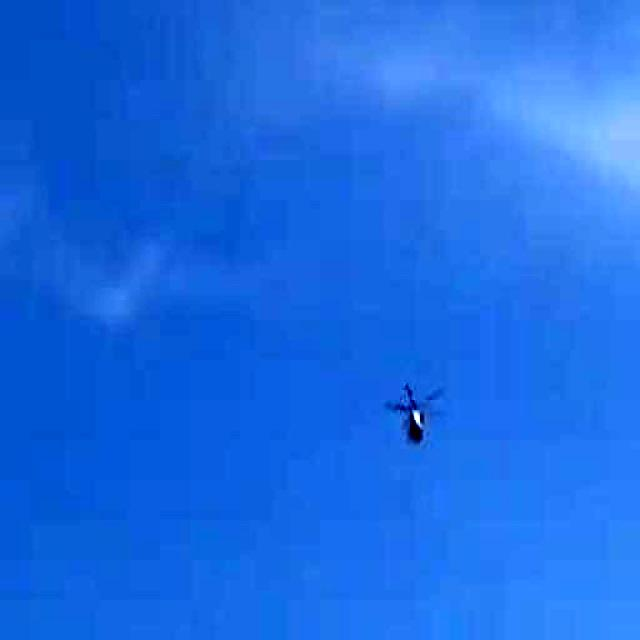drone: (371, 372, 459, 461)
